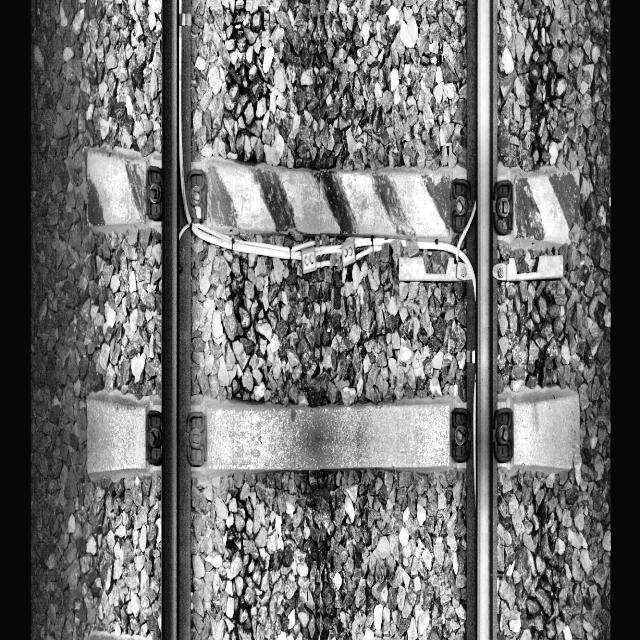Clips: (489, 173, 515, 239), (185, 164, 210, 228), (449, 174, 474, 235), (143, 158, 166, 224), (145, 405, 168, 467), (492, 402, 515, 464), (449, 406, 474, 463), (186, 408, 208, 472)
Sleepers: (84, 144, 585, 264), (81, 383, 586, 485)
